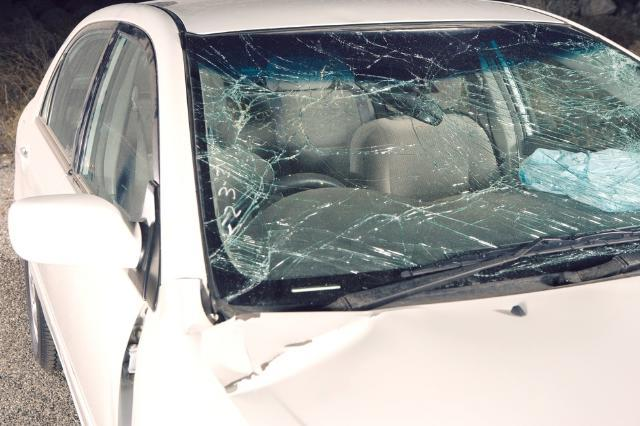Bonnet: (187, 308, 463, 424)
Windshield: (184, 33, 640, 274)
